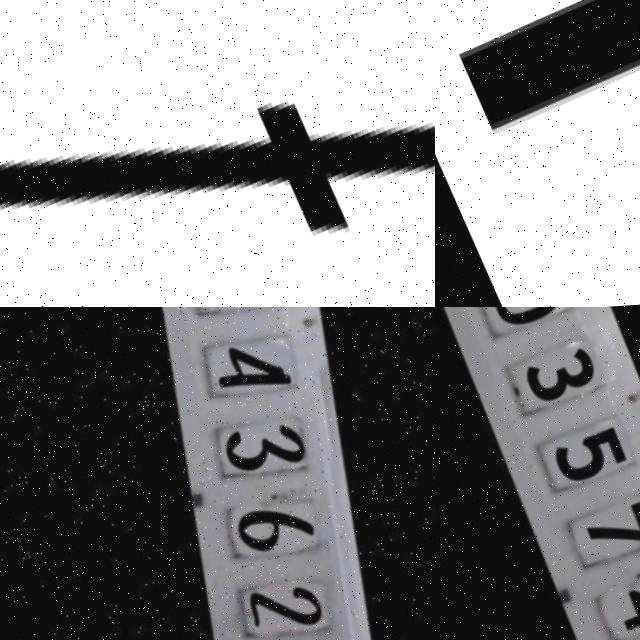0: (473, 307, 577, 343)
1: (177, 307, 303, 337)
2: (221, 559, 336, 640)
3: (200, 394, 322, 503), (503, 330, 612, 417)
4: (190, 314, 311, 422), (589, 566, 640, 640)
5: (535, 412, 637, 498)
6: (211, 478, 332, 583)
7: (561, 487, 640, 574)
F: (0, 0, 435, 307)
I: (435, 0, 640, 144)
